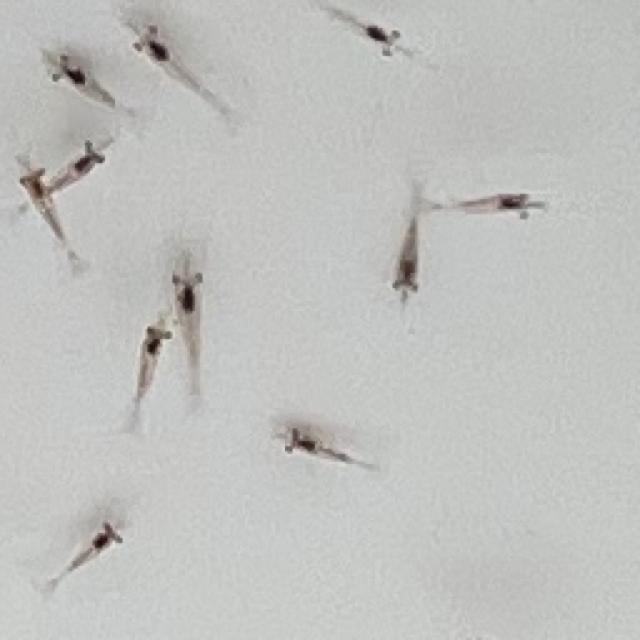shrimp-seed: (128, 22, 173, 71), (360, 21, 410, 65), (496, 183, 546, 226), (168, 270, 210, 316), (10, 162, 54, 204), (71, 136, 113, 178), (48, 51, 91, 92), (134, 322, 178, 358), (88, 518, 126, 556), (282, 425, 322, 461), (389, 258, 427, 294)
